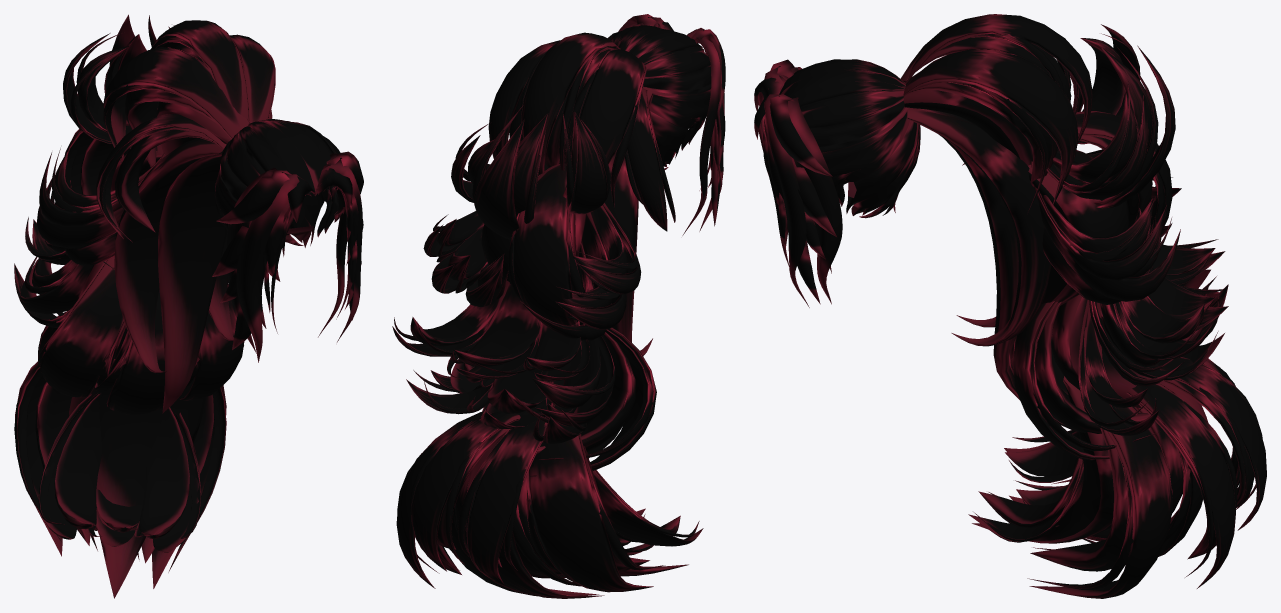
The model's file is hairExample1.glb.
3 views of the same model, side by side, from view 1: azimuth 30°, elevation 25°; view 2: azimuth 150°, elevation 25°; view 3: azimuth 270°, elevation 25° (orthographic). The views are drawn at different scales.
Visible parts, largest first — view 1: Hair; view 2: Hair; view 3: Hair.
Part boxes in pixels (x1,y1,x2,y2): Hair: (14, 14, 363, 598); Hair: (392, 14, 725, 598); Hair: (754, 14, 1266, 598).
Size of the model in its own units: 0.4396 by 0.9696 by 0.765.
Materials: 2 (2 with a texture image).
